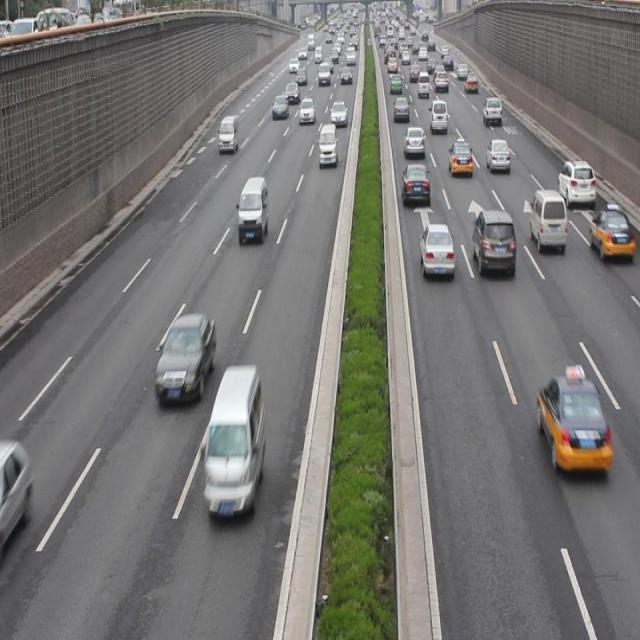car: (535, 364, 609, 477), (154, 315, 215, 406), (471, 207, 514, 279), (587, 204, 630, 258), (556, 157, 595, 209), (419, 224, 454, 277), (401, 162, 429, 204), (448, 139, 472, 176), (484, 138, 509, 170), (402, 126, 424, 160), (481, 98, 501, 122)
truck: (205, 367, 262, 518), (527, 189, 566, 252), (237, 174, 268, 248), (318, 122, 337, 166), (218, 115, 238, 155), (430, 100, 448, 132)
